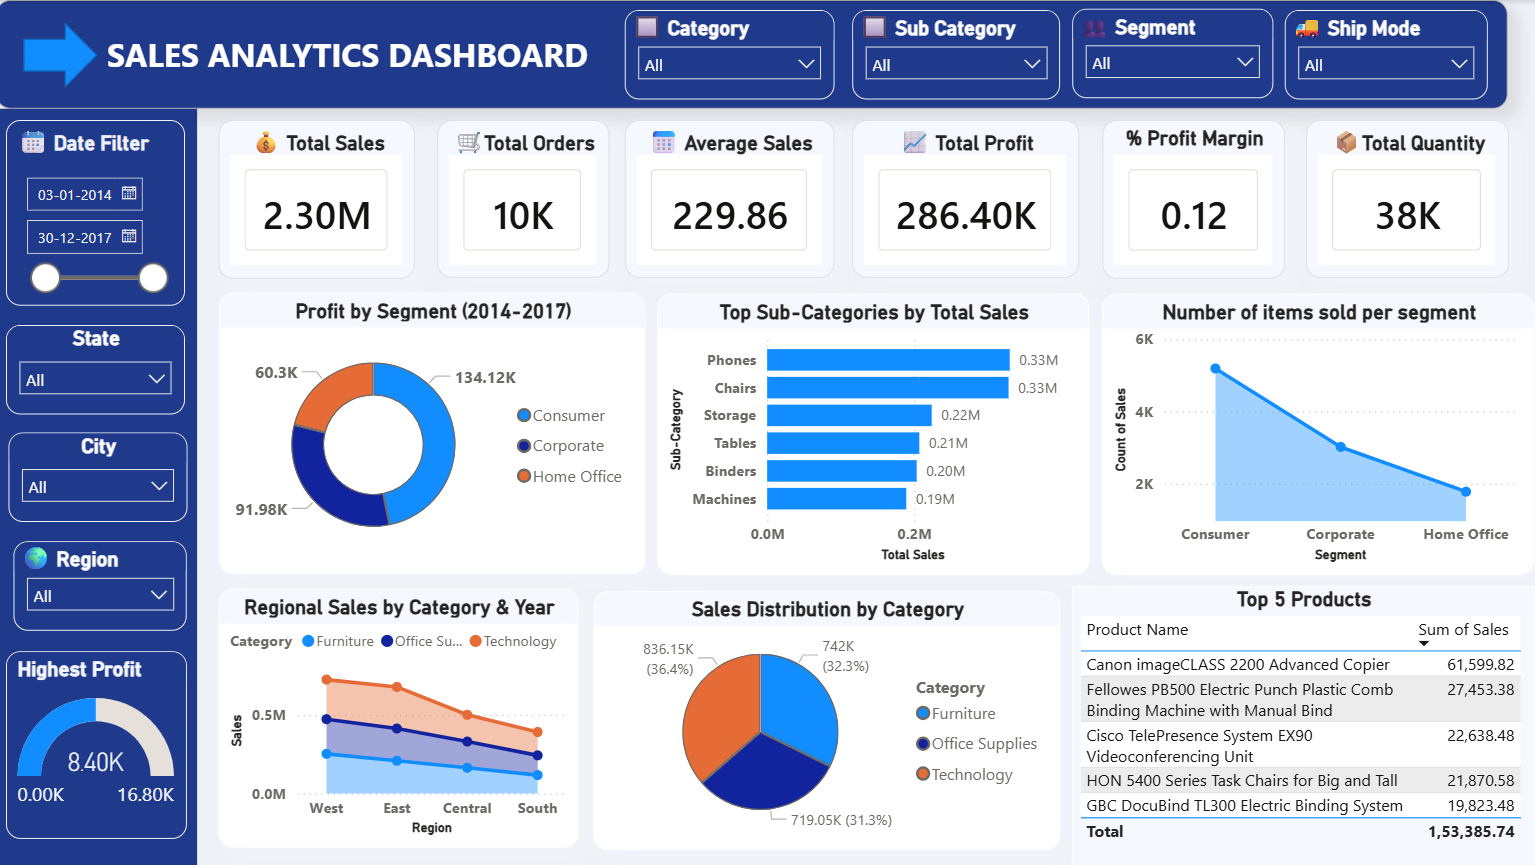

The page's visual inventory and layout, read from the dashboard file:
{"tool":"powerbi","page":{"name":"Page 1","canvas":[1280,720],"ordinal":0},"visuals":[{"type":"textbox","box":[0,0,1257,90.6],"z":0},{"type":"cardVisual","title":"💰  Total Sales","fields":{"Data":["SalesTab.Total Sales"]},"box":[185.2,100.2,163.3,131.7],"z":1000},{"type":"cardVisual","title":"🛒Total Orders","fields":{"Data":["SalesTab.Total Orders"]},"box":[367.2,100,142.9,131.5],"z":2000},{"type":"cardVisual","title":" 📅 Average Sales","fields":{"Data":["SalesTab.Average Sales"]},"box":[523,100,174.3,131.5],"z":3000},{"type":"cardVisual","title":"📈  Total Profit","fields":{"Data":["SalesTab.Total Profit"]},"box":[711.6,100,188.6,131.5],"z":4000},{"type":"cardVisual","title":"% Profit Margin","fields":{"Data":["SalesTab.Profit Margin"]},"box":[919.4,100.2,152.3,131.7],"z":5000},{"type":"slicer","title":"🔲           Category","fields":{"Values":["SalesTab.Category"]},"box":[523,8.6,174.3,74.3],"z":6000},{"type":"slicer","title":"🔲 Sub Category","fields":{"Values":["SalesTab.Sub-Category"]},"box":[711.6,8.6,172.9,74.3],"z":7000},{"type":"slicer","title":"👥    Segment","fields":{"Values":["SalesTab.Segment"]},"box":[894.5,7.1,167.2,74.3],"z":8000},{"type":"slicer","title":"🚚    Ship Mode","fields":{"Values":["SalesTab.Ship Mode"]},"box":[1071.7,8.6,168.6,74.3],"z":9000},{"type":"cardVisual","title":"📦Total Quantity","fields":{"Data":["SalesTab.Total Quantity"]},"box":[1088.8,100,168.6,131.5],"z":10000},{"type":"textbox","box":[0,90,167.2,630.1],"z":11000},{"type":"shape","box":[22.9,18.6,61.4,54.3],"z":12000},{"type":"slicer","title":"📆 Date Filter","fields":{"Values":["SalesTab.Order Date"]},"box":[8.6,100,148.6,154.3],"z":13000},{"type":"slicer","title":"City","fields":{"Values":["SalesTab.City"]},"box":[10,360.1,148.6,74.3],"z":14000},{"type":"slicer","title":"State ","fields":{"Values":["SalesTab.State"]},"box":[8.6,270.1,148.6,74.3],"z":15000},{"type":"slicer","title":"🌍         Region","fields":{"Values":["SalesTab.Region"]},"box":[14.3,450.1,144.3,74.3],"z":16000},{"type":"gauge","fields":{"Y":["SalesTab.Highest Profit"]},"box":[8.6,541.6,150,155.7],"z":17000},{"type":"donutChart","title":"Profit by Segment (2014-2017)","fields":{"Y":["Sum(SalesTab.Profit)"],"Series":["SalesTab.Segment"]},"box":[185.2,242.9,355.4,234.6],"z":18000},{"type":"barChart","title":"Top Sub-Categories by Total Sales","fields":{"Y":["SalesTab.Total Sales"],"Category":["SalesTab.Sub-Category"]},"box":[550.3,244.3,359.5,233.3],"z":19000},{"type":"lineChart","title":"Number of items sold per segment","fields":{"Y":["CountNonNull(SalesTab.Sales)"],"Category":["SalesTab.Segment"]},"box":[919.4,244.3,359.5,233.3],"z":20000},{"type":"stackedAreaChart","title":"Regional Sales by Category & Year","fields":{"Series":["SalesTab.Category"],"Y":["Sum(SalesTab.Sales)"],"Category":["SalesTab.Region"]},"box":[185.2,490,299.1,215.4],"z":21000},{"type":"pieChart","title":"Sales Distribution by Category","fields":{"Y":["Sum(SalesTab.Sales)"],"Series":["SalesTab.Category"]},"box":[496.7,491.3,388.3,215.4],"z":22000},{"type":"tableEx","title":"Top 5 Products","fields":{"Values":["SalesTab.Product Name","Sum(SalesTab.Sales)"]},"box":[894.7,487.1,384.2,233.3],"z":23000}]}

Visuals, with their boxes in screenshot pixels (x1, y1, x2, y2), scaled from the page's 1280x720 canvas onto the 1535x865 screenshot:
textbox: <bbox>0, 0, 1507, 109</bbox>
"💰  Total Sales" cardVisual: <bbox>222, 120, 418, 279</bbox>
"🛒Total Orders" cardVisual: <bbox>440, 120, 612, 278</bbox>
" 📅 Average Sales" cardVisual: <bbox>627, 120, 836, 278</bbox>
"📈  Total Profit" cardVisual: <bbox>853, 120, 1080, 278</bbox>
"% Profit Margin" cardVisual: <bbox>1103, 120, 1285, 279</bbox>
"🔲           Category" slicer: <bbox>627, 10, 836, 100</bbox>
"🔲 Sub Category" slicer: <bbox>853, 10, 1061, 100</bbox>
"👥    Segment" slicer: <bbox>1073, 9, 1273, 98</bbox>
"🚚    Ship Mode" slicer: <bbox>1285, 10, 1487, 100</bbox>
"📦Total Quantity" cardVisual: <bbox>1306, 120, 1508, 278</bbox>
textbox: <bbox>0, 108, 201, 864</bbox>
shape: <bbox>27, 22, 101, 88</bbox>
"📆 Date Filter" slicer: <bbox>10, 120, 189, 306</bbox>
"City" slicer: <bbox>12, 433, 190, 522</bbox>
"State " slicer: <bbox>10, 324, 189, 414</bbox>
"🌍         Region" slicer: <bbox>17, 541, 190, 630</bbox>
gauge - SalesTab.Highest Profit: <bbox>10, 651, 190, 838</bbox>
"Profit by Segment (2014-2017)" donutChart: <bbox>222, 292, 648, 574</bbox>
"Top Sub-Categories by Total Sales" barChart: <bbox>660, 293, 1091, 574</bbox>
"Number of items sold per segment" lineChart: <bbox>1103, 293, 1534, 574</bbox>
"Regional Sales by Category & Year" stackedAreaChart: <bbox>222, 589, 581, 847</bbox>
"Sales Distribution by Category" pieChart: <bbox>596, 590, 1061, 849</bbox>
"Top 5 Products" tableEx: <bbox>1073, 585, 1534, 864</bbox>
